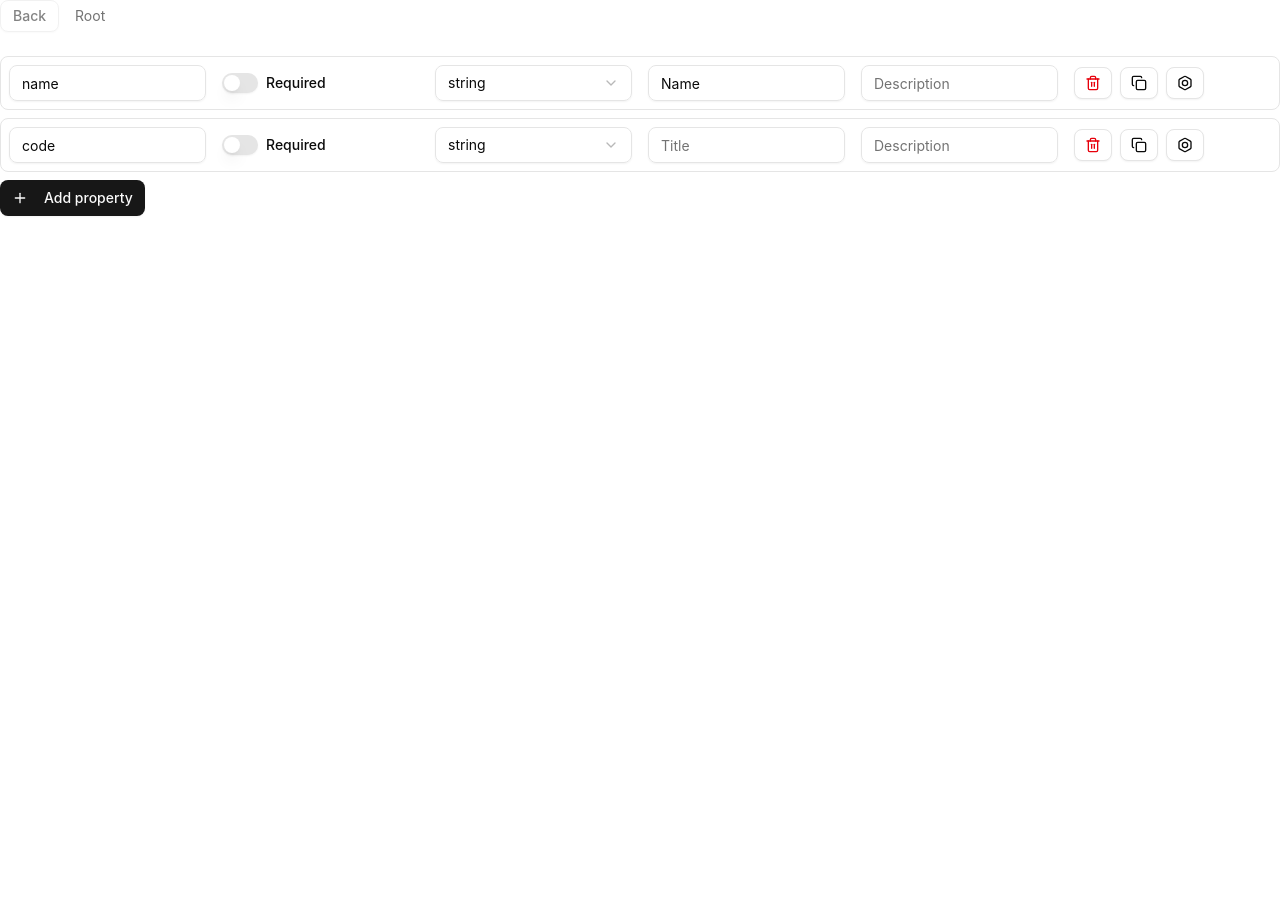
names the Add dialog, its buttons and the Type placeholder
Step 1. Click the button "Add property" → (72, 198), box [0,180,145,216]
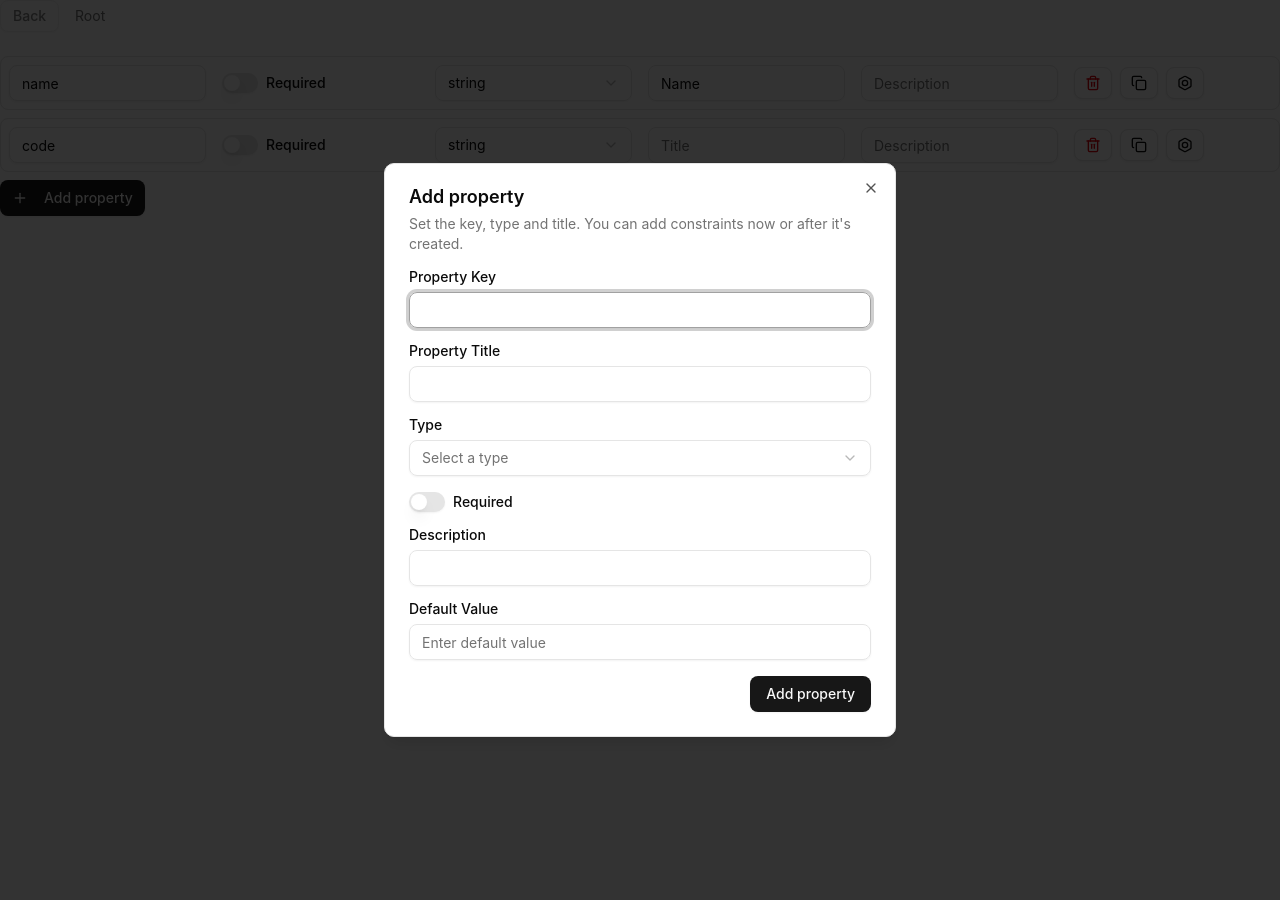
Expected: the button "Add property" is shown, [750,676,871,712]
Expected: the dropdown named "Select type" reads "Select a type", [409,440,871,476]
